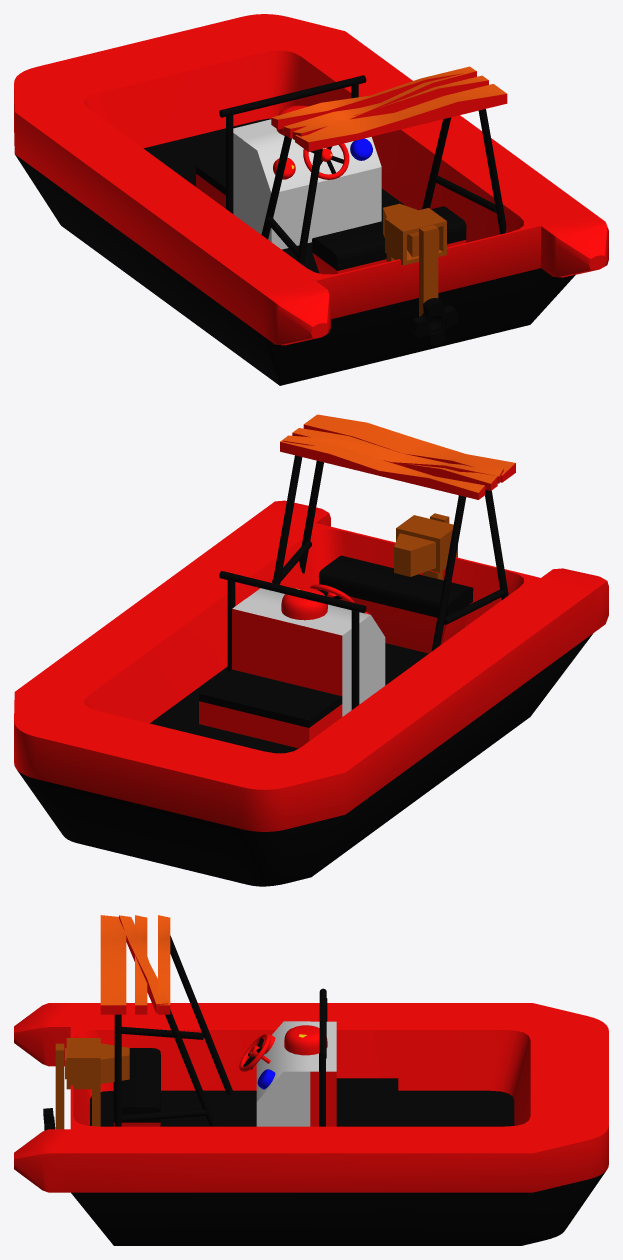
File: SDG_WaterBoatTextured1.fbx
The picture shows the model from 3 angles, top to bottom: view 1: azimuth 30°, elevation 25°; view 2: azimuth 150°, elevation 25°; view 3: azimuth 270°, elevation 25°; orthographic projection. The views are drawn at different scales.
Visible parts, largest first — view 1: Box009; view 2: Box009; view 3: Box009.
Boxes of the visible parts, x1,y1,x2,y2 form: Box009: [14, 14, 608, 385]; Box009: [14, 414, 608, 886]; Box009: [14, 915, 608, 1245].
Bounding box in the file's own units: 11.53 × 8.28 × 19.3.
